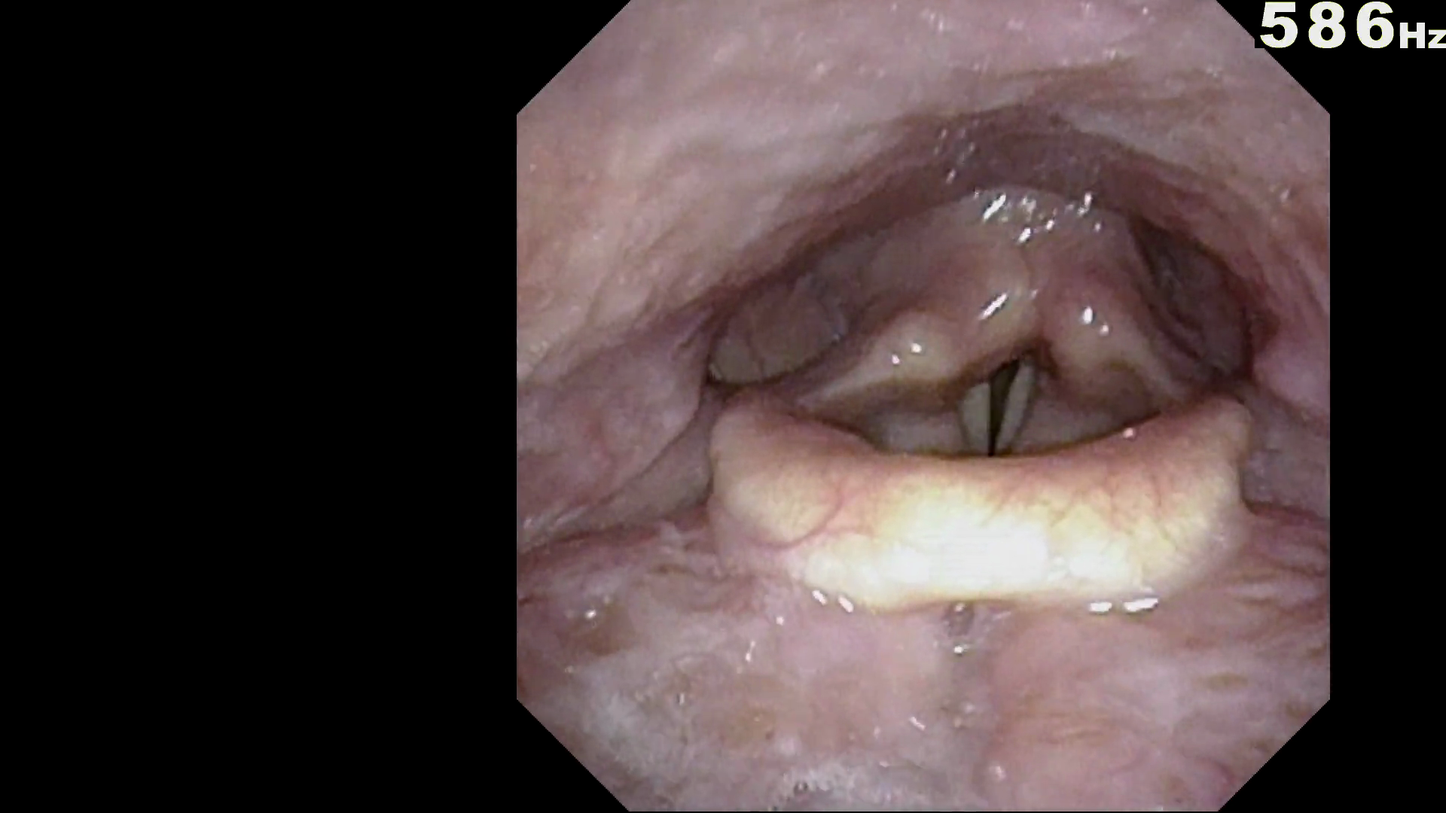epiglottis: (729, 407, 1226, 605)
trachea: (914, 306, 1089, 525)
